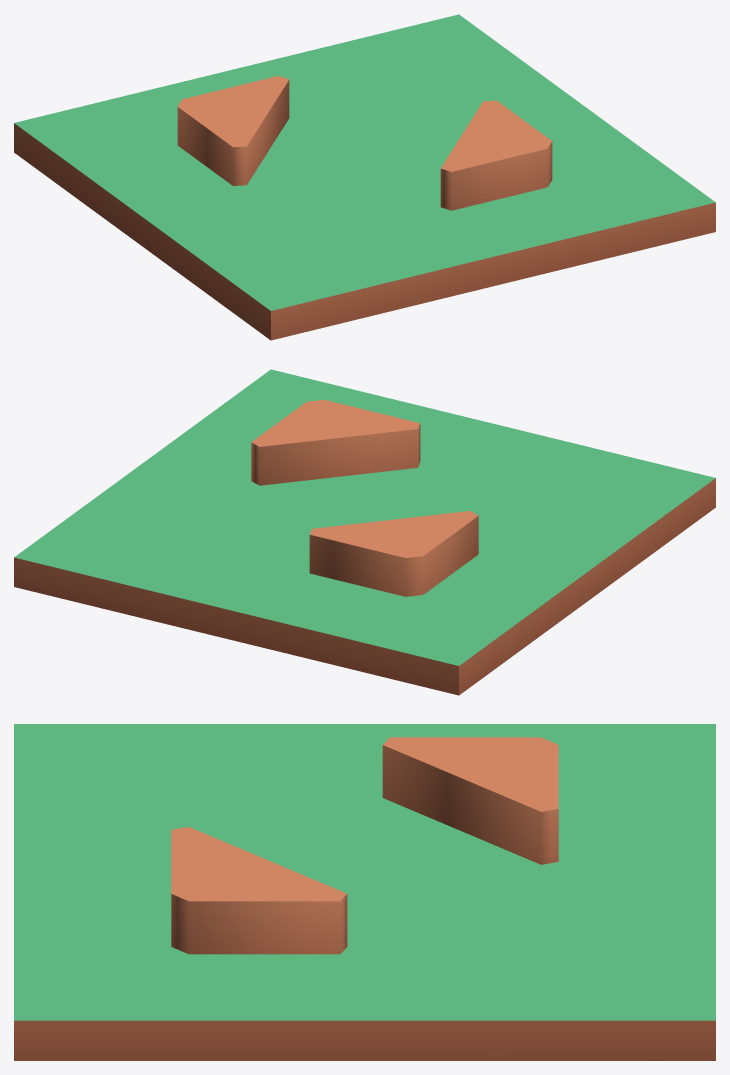
The model's file is obstacle-triangle.glb.
3 renders of one model, top to bottom at view 1: azimuth 30°, elevation 25°; view 2: azimuth 150°, elevation 25°; view 3: azimuth 270°, elevation 25°, orthographic. The views are drawn at different scales.
Parts seen in each view (by area): view 1: obstacle-triangle; view 2: obstacle-triangle; view 3: obstacle-triangle.
Part boxes in pixels (x1,y1,x2,y2): obstacle-triangle: (14,14,715,340); obstacle-triangle: (14,369,715,695); obstacle-triangle: (14,724,715,1060).
Size of the model in its own units: 0.9999 by 0.1467 by 0.9999.
1 material, 1 textured.
